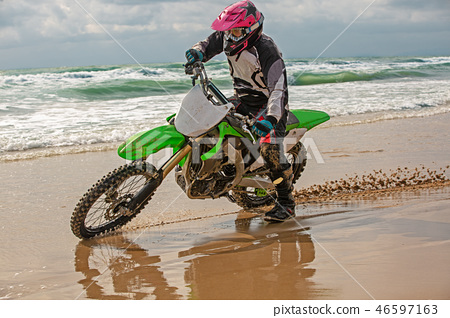helmet: (212, 2, 274, 51)
